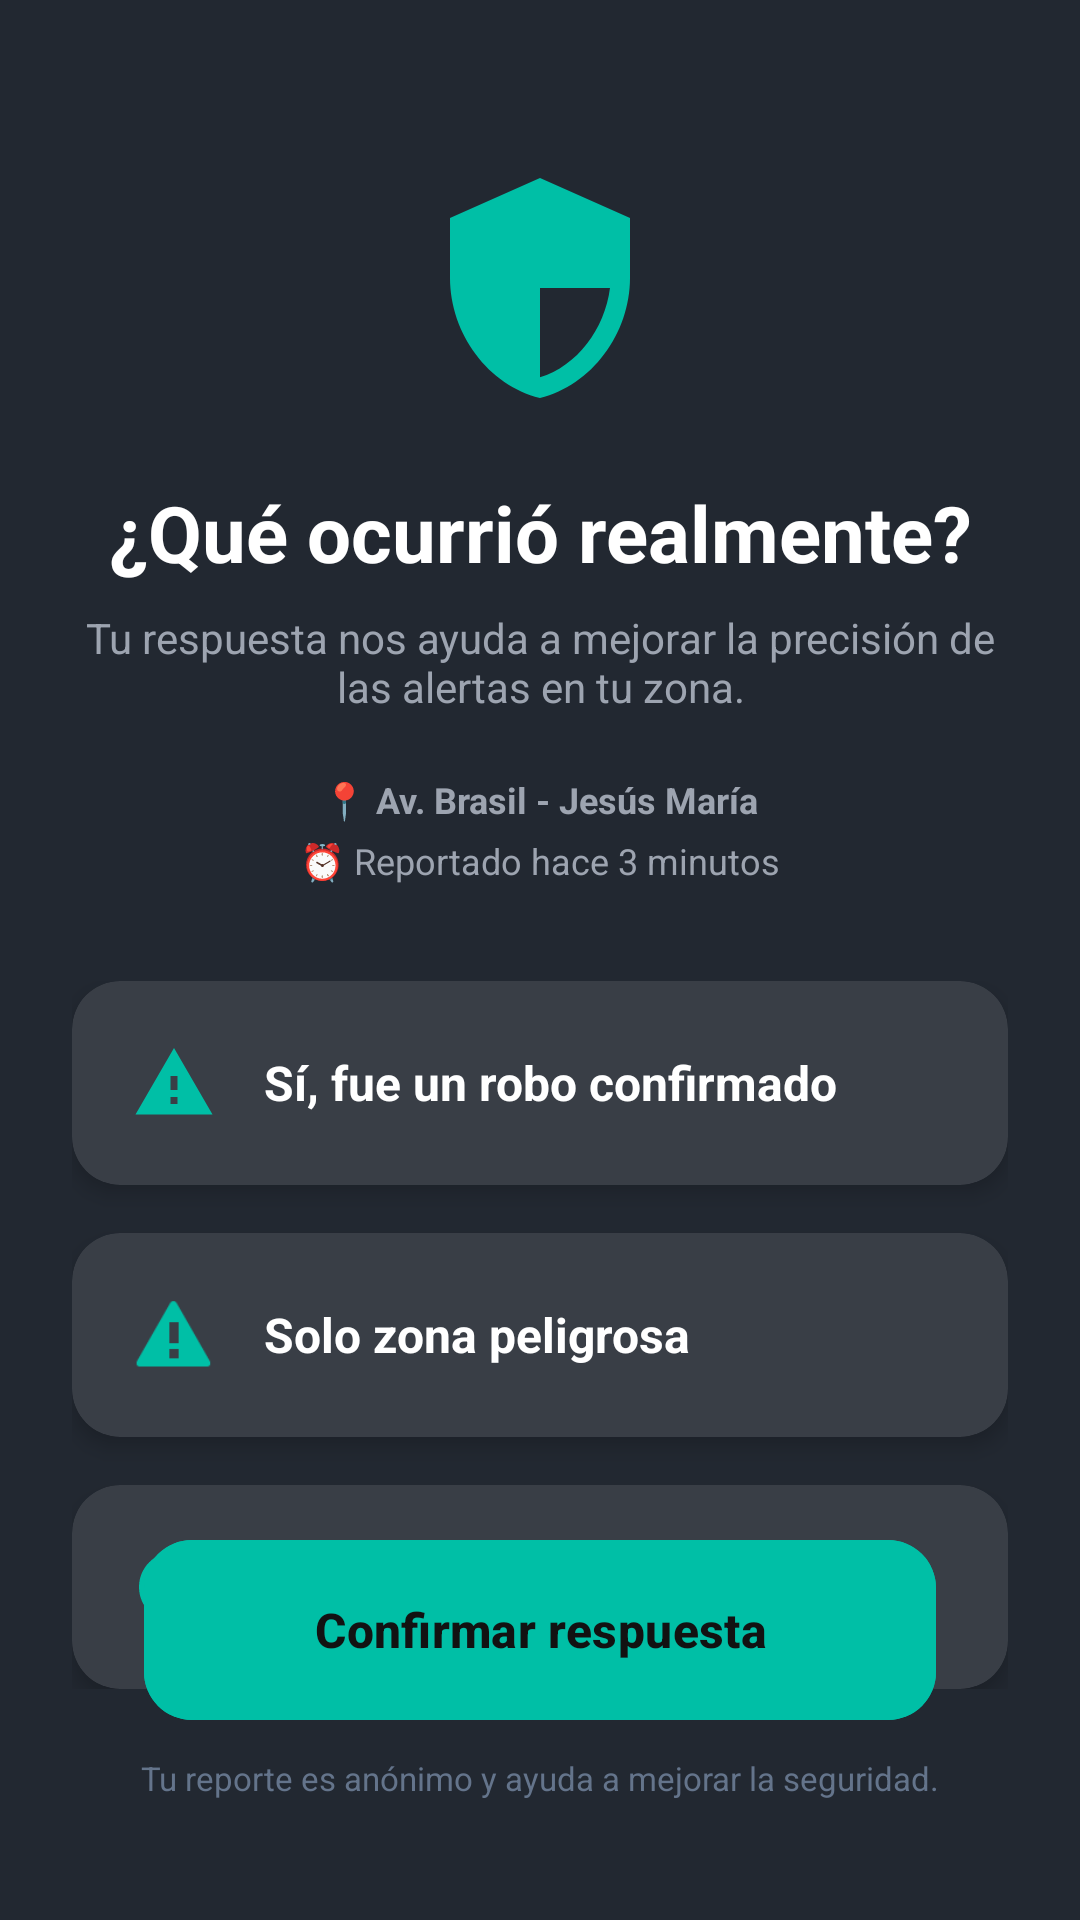

Where icons sit on this 1080×1920 app screen, as (x1, y1, x2, y2):
shield security: (450, 178, 630, 398)
warning: (136, 1048, 212, 1115), (136, 1301, 211, 1367)
